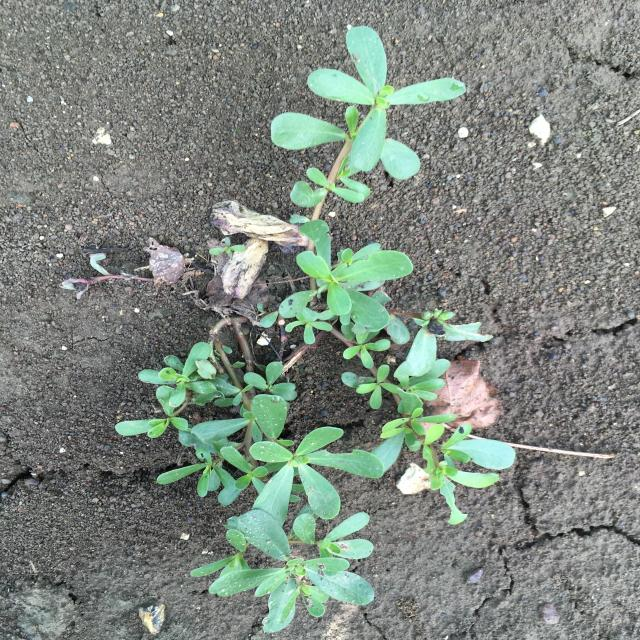Purslane: (260, 26, 516, 525), (116, 315, 375, 633), (209, 237, 246, 260)
